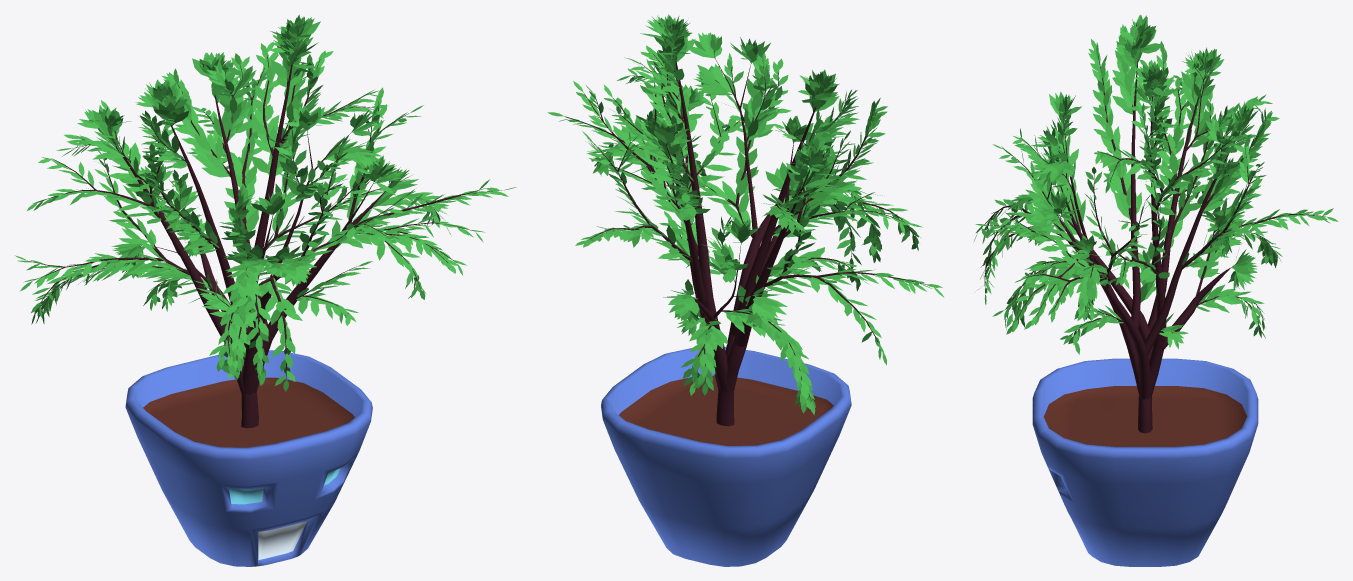
The model's file is CasaCereza.fbx.
The picture shows the model from 3 angles, left to right: view 1: azimuth 30°, elevation 25°; view 2: azimuth 150°, elevation 25°; view 3: azimuth 270°, elevation 25°; orthographic projection. The views are drawn at different scales.
Visible parts, largest first — view 1: leaves, Cube, tree; view 2: leaves, Cube, tree; view 3: leaves, Cube, tree.
Part boxes in pixels (x1,y1,x2,y2): leaves: (15, 14, 516, 391); Cube: (125, 350, 372, 566); tree: (27, 45, 501, 428); leaves: (548, 14, 944, 415); Cube: (601, 346, 851, 566); tree: (564, 50, 926, 426); leaves: (974, 14, 1338, 354); Cube: (1032, 358, 1258, 566); tree: (984, 40, 1325, 433).
Bounding box in the file's own units: 542 × 593 × 388.
